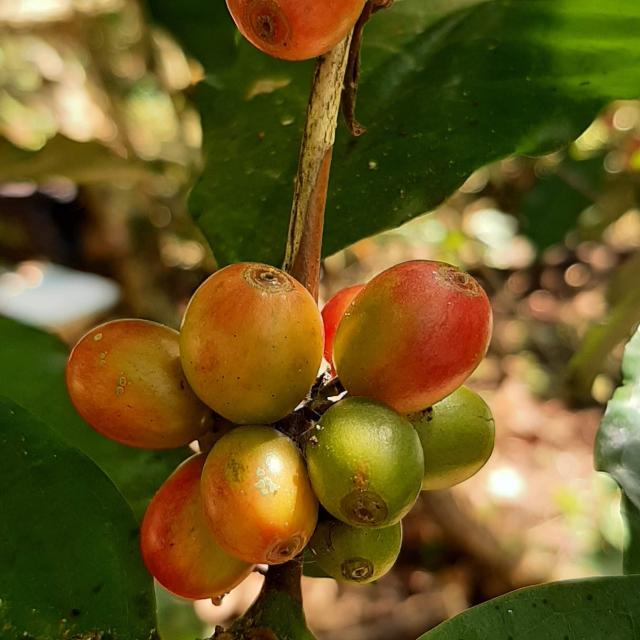green: (306, 397, 424, 529), (407, 386, 496, 491), (306, 519, 402, 585)
red: (226, 0, 365, 60), (322, 285, 365, 377)
yellow: (333, 261, 493, 414), (179, 263, 324, 425), (65, 320, 212, 451), (200, 425, 318, 566), (140, 454, 253, 601)
